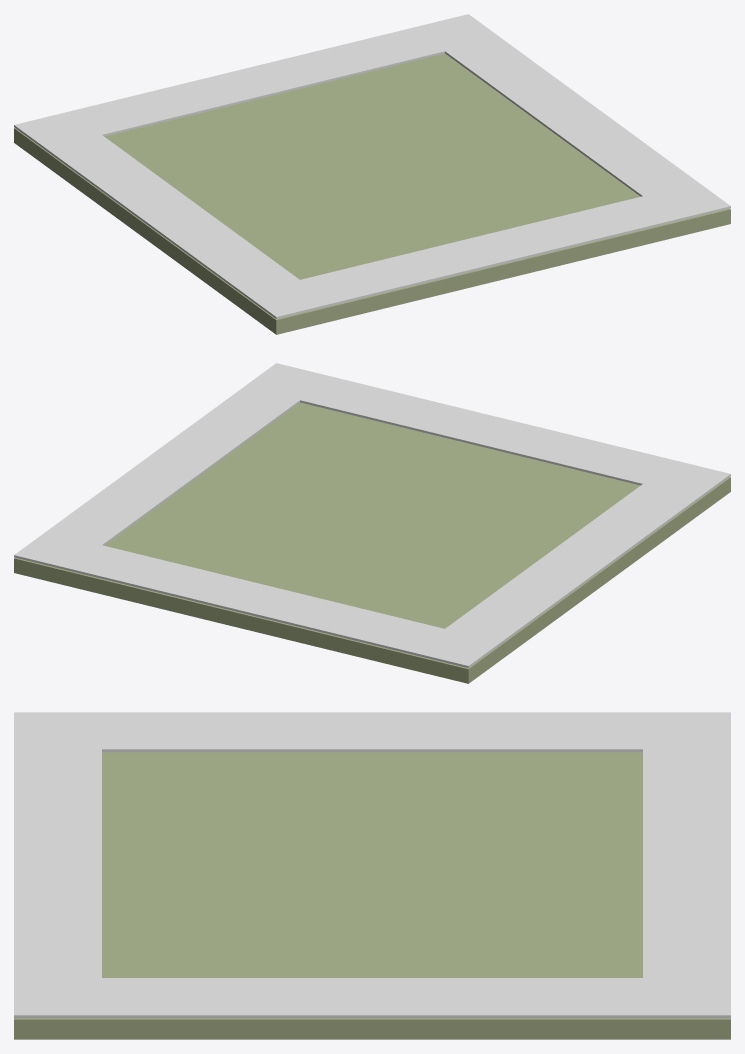
Rendered from TAHTAMONOPOLY.fbx.
3 views of the same model, one above another, from view 1: azimuth 30°, elevation 25°; view 2: azimuth 150°, elevation 25°; view 3: azimuth 270°, elevation 25° (orthographic). The views are drawn at different scales.
Parts seen in each view (by area): view 1: 0, 1, 29, 10, 20, 23, 26, 2, 25, 27, 3, 6 (+27 smaller); view 2: 0, 10, 20, 1, 29, 26, 23, 22, 24, 4, 5, 8 (+27 smaller); view 3: 0, 20, 29, 1, 10, 22, 27, 3, 8, 2, 21, 23 (+27 smaller).
Boxes of the visible parts, x1=… form: 0: x1=14, y1=53, x2=730, y2=334; 1: x1=244, y1=280, x2=332, y2=318; 29: x1=643, y1=182, x2=730, y2=221; 10: x1=14, y1=111, x2=101, y2=150; 20: x1=413, y1=14, x2=500, y2=50; 23: x1=494, y1=74, x2=574, y2=107; 26: x1=568, y1=128, x2=648, y2=161; 2: x1=219, y1=262, x2=299, y2=295; 25: x1=544, y1=110, x2=623, y2=143; 27: x1=593, y1=146, x2=673, y2=179; 3: x1=194, y1=243, x2=274, y2=276; 6: x1=120, y1=189, x2=200, y2=222; 0: x1=14, y1=402, x2=730, y2=683; 10: x1=412, y1=629, x2=500, y2=667; 20: x1=14, y1=531, x2=101, y2=570; 1: x1=643, y1=460, x2=730, y2=499; 29: x1=244, y1=363, x2=331, y2=399; 26: x1=170, y1=423, x2=250, y2=456; 23: x1=96, y1=477, x2=176, y2=510; 22: x1=71, y1=495, x2=151, y2=528; 24: x1=121, y1=459, x2=200, y2=492; 4: x1=569, y1=520, x2=649, y2=553; 5: x1=544, y1=538, x2=624, y2=571; 8: x1=470, y1=592, x2=550, y2=625; 0: x1=14, y1=752, x2=730, y2=1039; 20: x1=643, y1=978, x2=730, y2=1018; 29: x1=14, y1=978, x2=101, y2=1018; 1: x1=14, y1=712, x2=101, y2=749; 10: x1=643, y1=712, x2=730, y2=749; 22: x1=507, y1=978, x2=575, y2=1018; 27: x1=169, y1=978, x2=237, y2=1018; 3: x1=169, y1=712, x2=237, y2=752; 8: x1=507, y1=712, x2=575, y2=752; 2: x1=102, y1=712, x2=169, y2=752; 21: x1=575, y1=978, x2=642, y2=1018; 23: x1=440, y1=978, x2=507, y2=1018.
Size of the model in its own units: 2200 by 82.6 by 2200.
